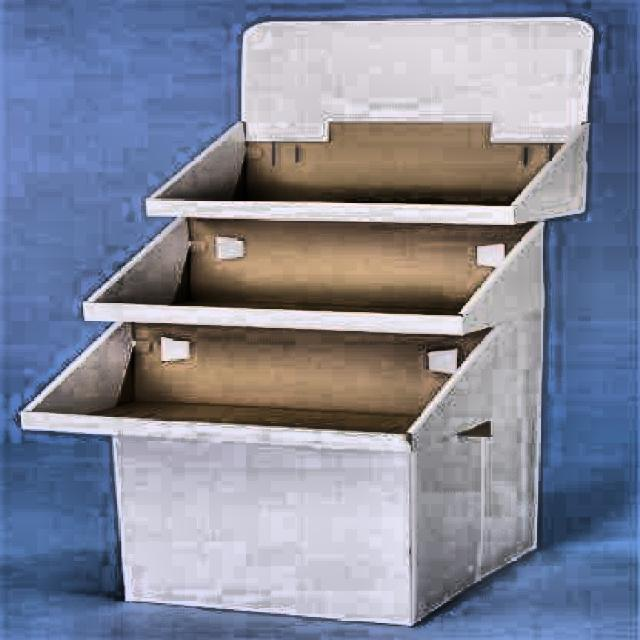Cardbox: (40, 308, 515, 435), (128, 187, 551, 316), (246, 119, 580, 208)
